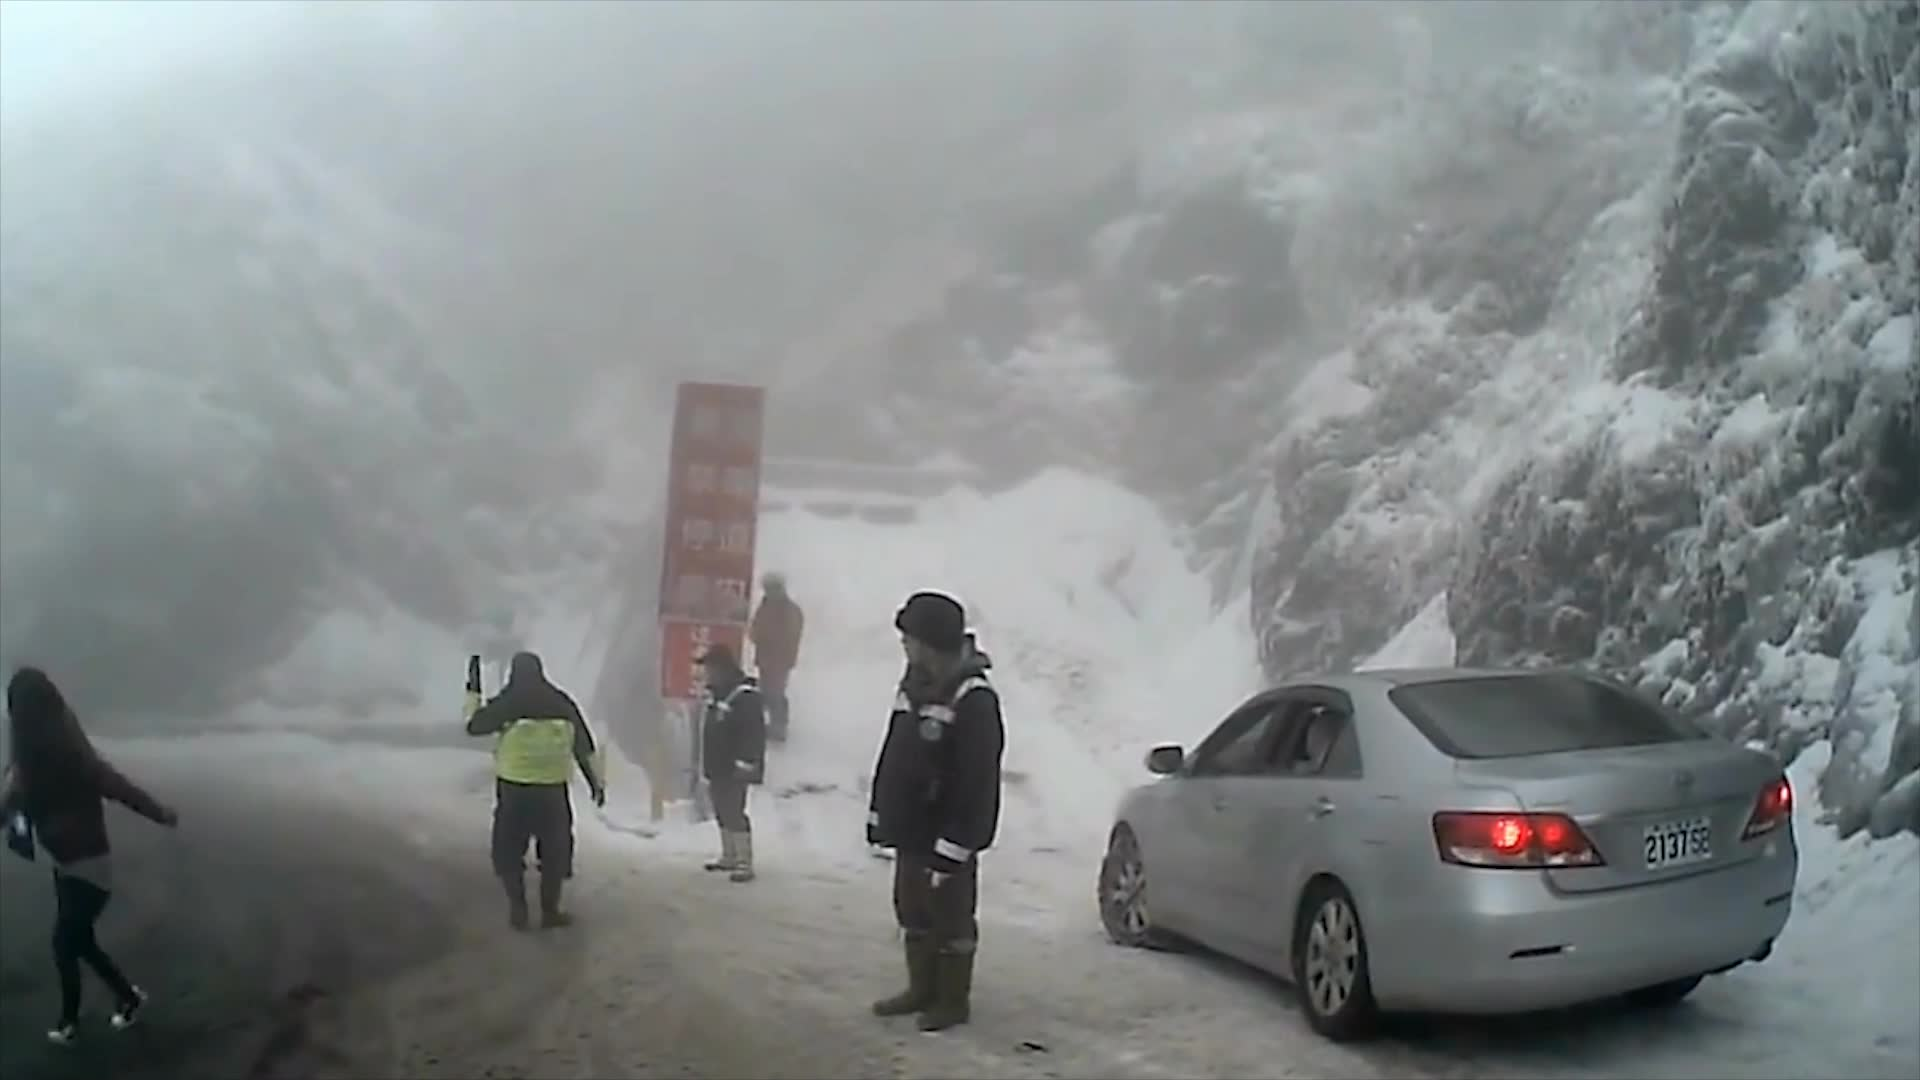pedestrian: (1, 667, 177, 1056), (861, 593, 1006, 1033), (438, 662, 599, 937), (689, 647, 771, 886), (743, 567, 810, 746)
vehicle: (1096, 663, 1797, 1040)
